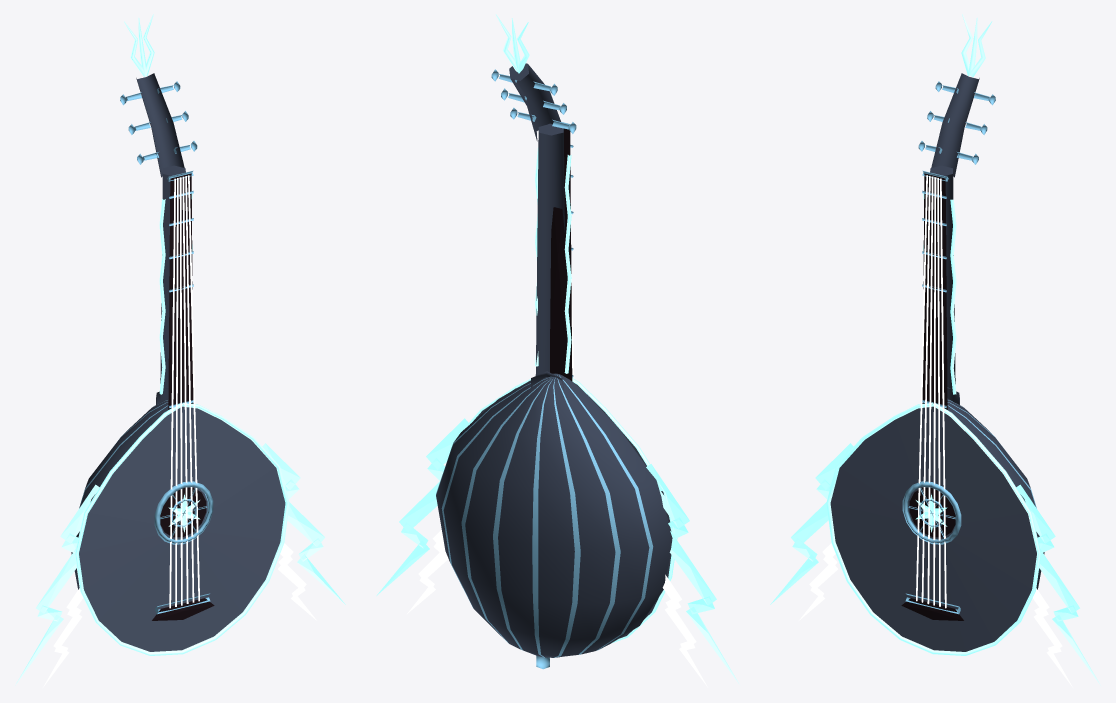
The model's file is lute_8.glb.
3 renders of one model, left to right at view 1: azimuth 30°, elevation 25°; view 2: azimuth 150°, elevation 25°; view 3: azimuth 330°, elevation 25°, orthographic. The views are drawn at different scales.
Parts seen in each view (by area): view 1: lute_8; view 2: lute_8; view 3: lute_8.
Boxes of the visible parts, bbox=[...] form: lute_8: bbox=[15, 14, 345, 687]; lute_8: bbox=[376, 14, 739, 687]; lute_8: bbox=[770, 14, 1100, 687].
Size of the model in its own units: 0.421 by 0.7422 by 0.1036.
